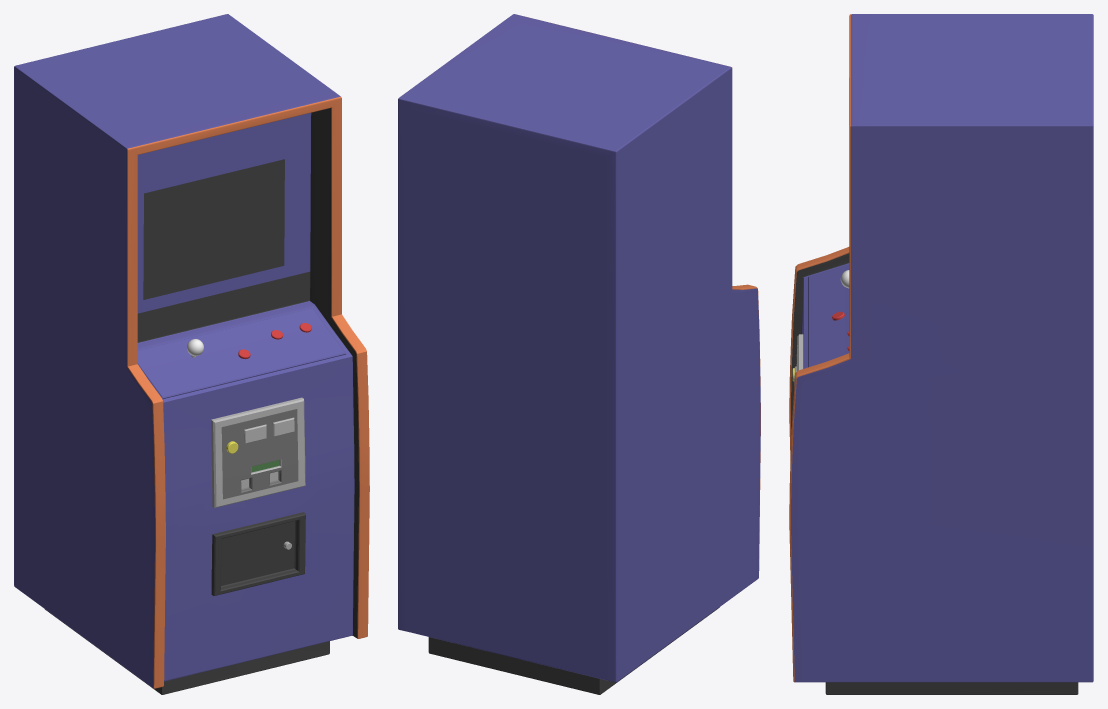
3 views of the same model, side by side, from view 1: azimuth 30°, elevation 25°; view 2: azimuth 150°, elevation 25°; view 3: azimuth 270°, elevation 25° (orthographic). The views are drawn at different scales.
Parts seen in each view (by area): view 1: Arcade_Machine_v2; view 2: Arcade_Machine_v2; view 3: Arcade_Machine_v2.
Boxes of the visible parts, x1=… form: Arcade_Machine_v2: x1=14, y1=14, x2=369, y2=694; Arcade_Machine_v2: x1=398, y1=14, x2=760, y2=694; Arcade_Machine_v2: x1=789, y1=14, x2=1093, y2=694.
Size of the model in its own units: 10.99 by 26.61 by 12.6.
